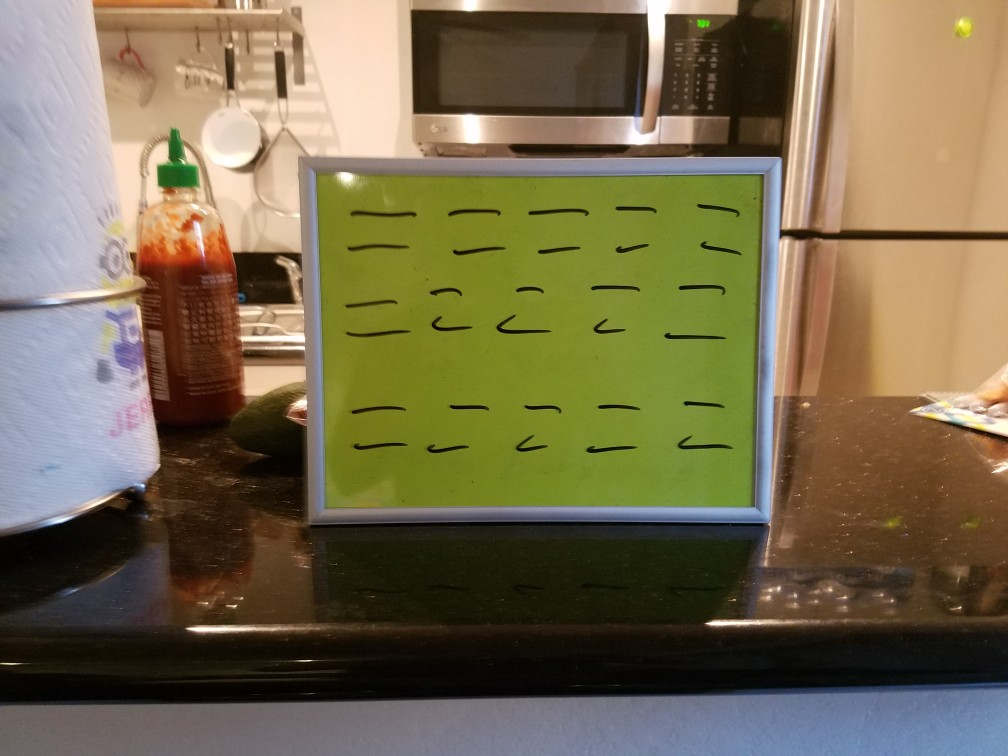=: (659, 270, 741, 352), (494, 387, 574, 470), (660, 387, 744, 465), (338, 194, 427, 264), (420, 392, 497, 469), (580, 270, 653, 348), (581, 391, 659, 464), (341, 391, 418, 458), (523, 197, 601, 263), (682, 191, 751, 265), (488, 275, 557, 348), (436, 198, 509, 264), (415, 281, 481, 351), (338, 287, 406, 353), (607, 191, 659, 260)
